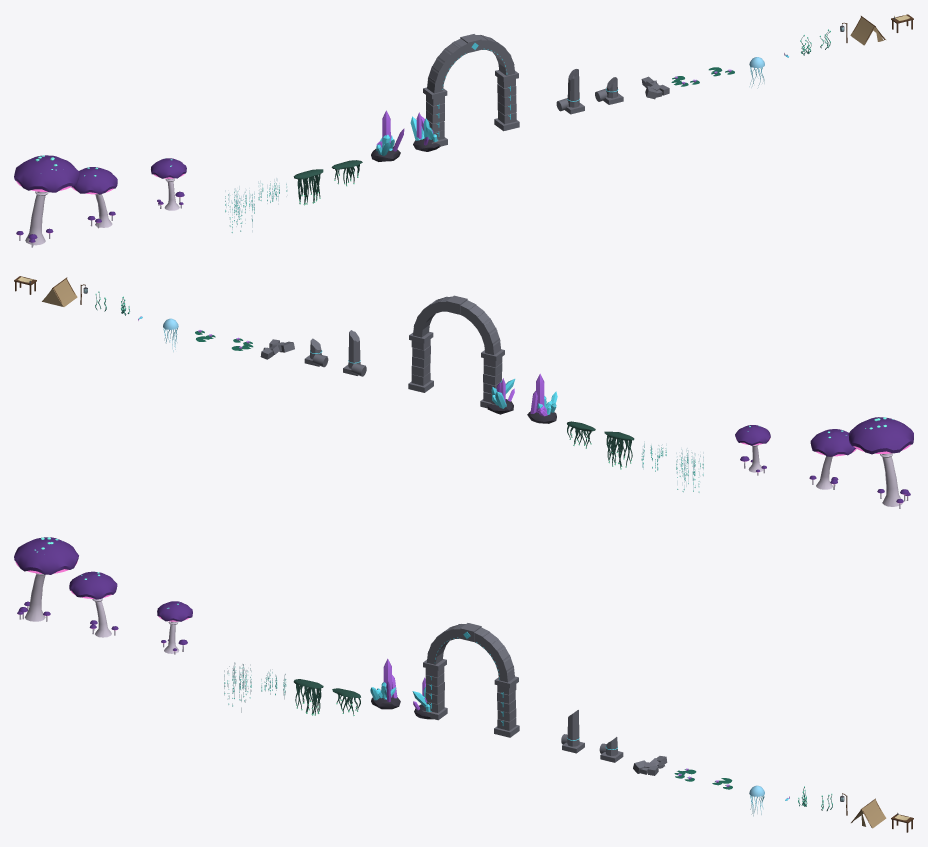
File: GrotteLueurs.fbx
3 renders of one model, top to bottom at view 1: azimuth 30°, elevation 25°; view 2: azimuth 150°, elevation 25°; view 3: azimuth 330°, elevation 25°, orthographic.
Visible parts, largest first — view 1: Arche_Pierre, ChampiGeant1_Chapeau, ChampiGeant2_Chapeau, ColonneBrisee1_Pierre, ChampiGeant1_Pied, ChampiGeant3_Chapeau, Mousse1_Mousse; view 2: Arche_Pierre, ChampiGeant1_Chapeau, ChampiGeant2_Chapeau, ChampiGeant1_Pied, ChampiGeant3_Chapeau, Mousse1_Mousse, ColonneBrisee1_Pierre, Tente_Toile; view 3: Arche_Pierre, ChampiGeant1_Chapeau, ChampiGeant2_Chapeau, ChampiGeant3_Chapeau, ChampiGeant1_Pied, Mousse1_Mousse, ColonneBrisee1_Pierre.
Boxes of the visible parts, x1,y1,x2,y2 form: Arche_Pierre: (423, 34, 519, 146); ChampiGeant1_Chapeau: (14, 155, 79, 242); ChampiGeant2_Chapeau: (71, 167, 117, 222); ColonneBrisee1_Pierre: (556, 69, 584, 114); ChampiGeant1_Pied: (19, 191, 50, 247); ChampiGeant3_Chapeau: (151, 158, 186, 204); Mousse1_Mousse: (293, 169, 323, 204); Arche_Pierre: (408, 295, 504, 408); ChampiGeant1_Chapeau: (848, 417, 913, 502); ChampiGeant2_Chapeau: (809, 429, 855, 483); ChampiGeant1_Pied: (880, 453, 908, 508); ChampiGeant3_Chapeau: (735, 425, 770, 471); Mousse1_Mousse: (604, 431, 634, 467); ColonneBrisee1_Pierre: (343, 330, 366, 376); Tente_Toile: (42, 278, 77, 306); Arche_Pierre: (422, 623, 519, 737); ChampiGeant1_Chapeau: (14, 537, 78, 615); ChampiGeant2_Chapeau: (69, 571, 118, 630); ChampiGeant3_Chapeau: (157, 601, 192, 650); ChampiGeant1_Pied: (19, 573, 47, 621); Mousse1_Mousse: (293, 679, 323, 714); ColonneBrisee1_Pierre: (561, 710, 584, 753).
Size of the model in its own units: 209 by 30.55 by 13.19.
